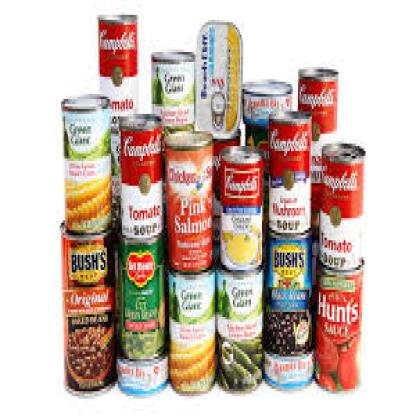METAL: (58, 223, 114, 391), (297, 64, 338, 278), (262, 220, 312, 389), (164, 126, 214, 270), (116, 220, 166, 359), (60, 96, 112, 228), (312, 255, 363, 389), (166, 265, 214, 394), (319, 138, 362, 268), (214, 270, 260, 391), (218, 144, 262, 270), (119, 112, 162, 236), (195, 18, 240, 136), (269, 109, 311, 233), (98, 13, 138, 132), (150, 54, 194, 129), (243, 122, 269, 240), (241, 84, 291, 122), (114, 352, 166, 388), (108, 131, 119, 213)
